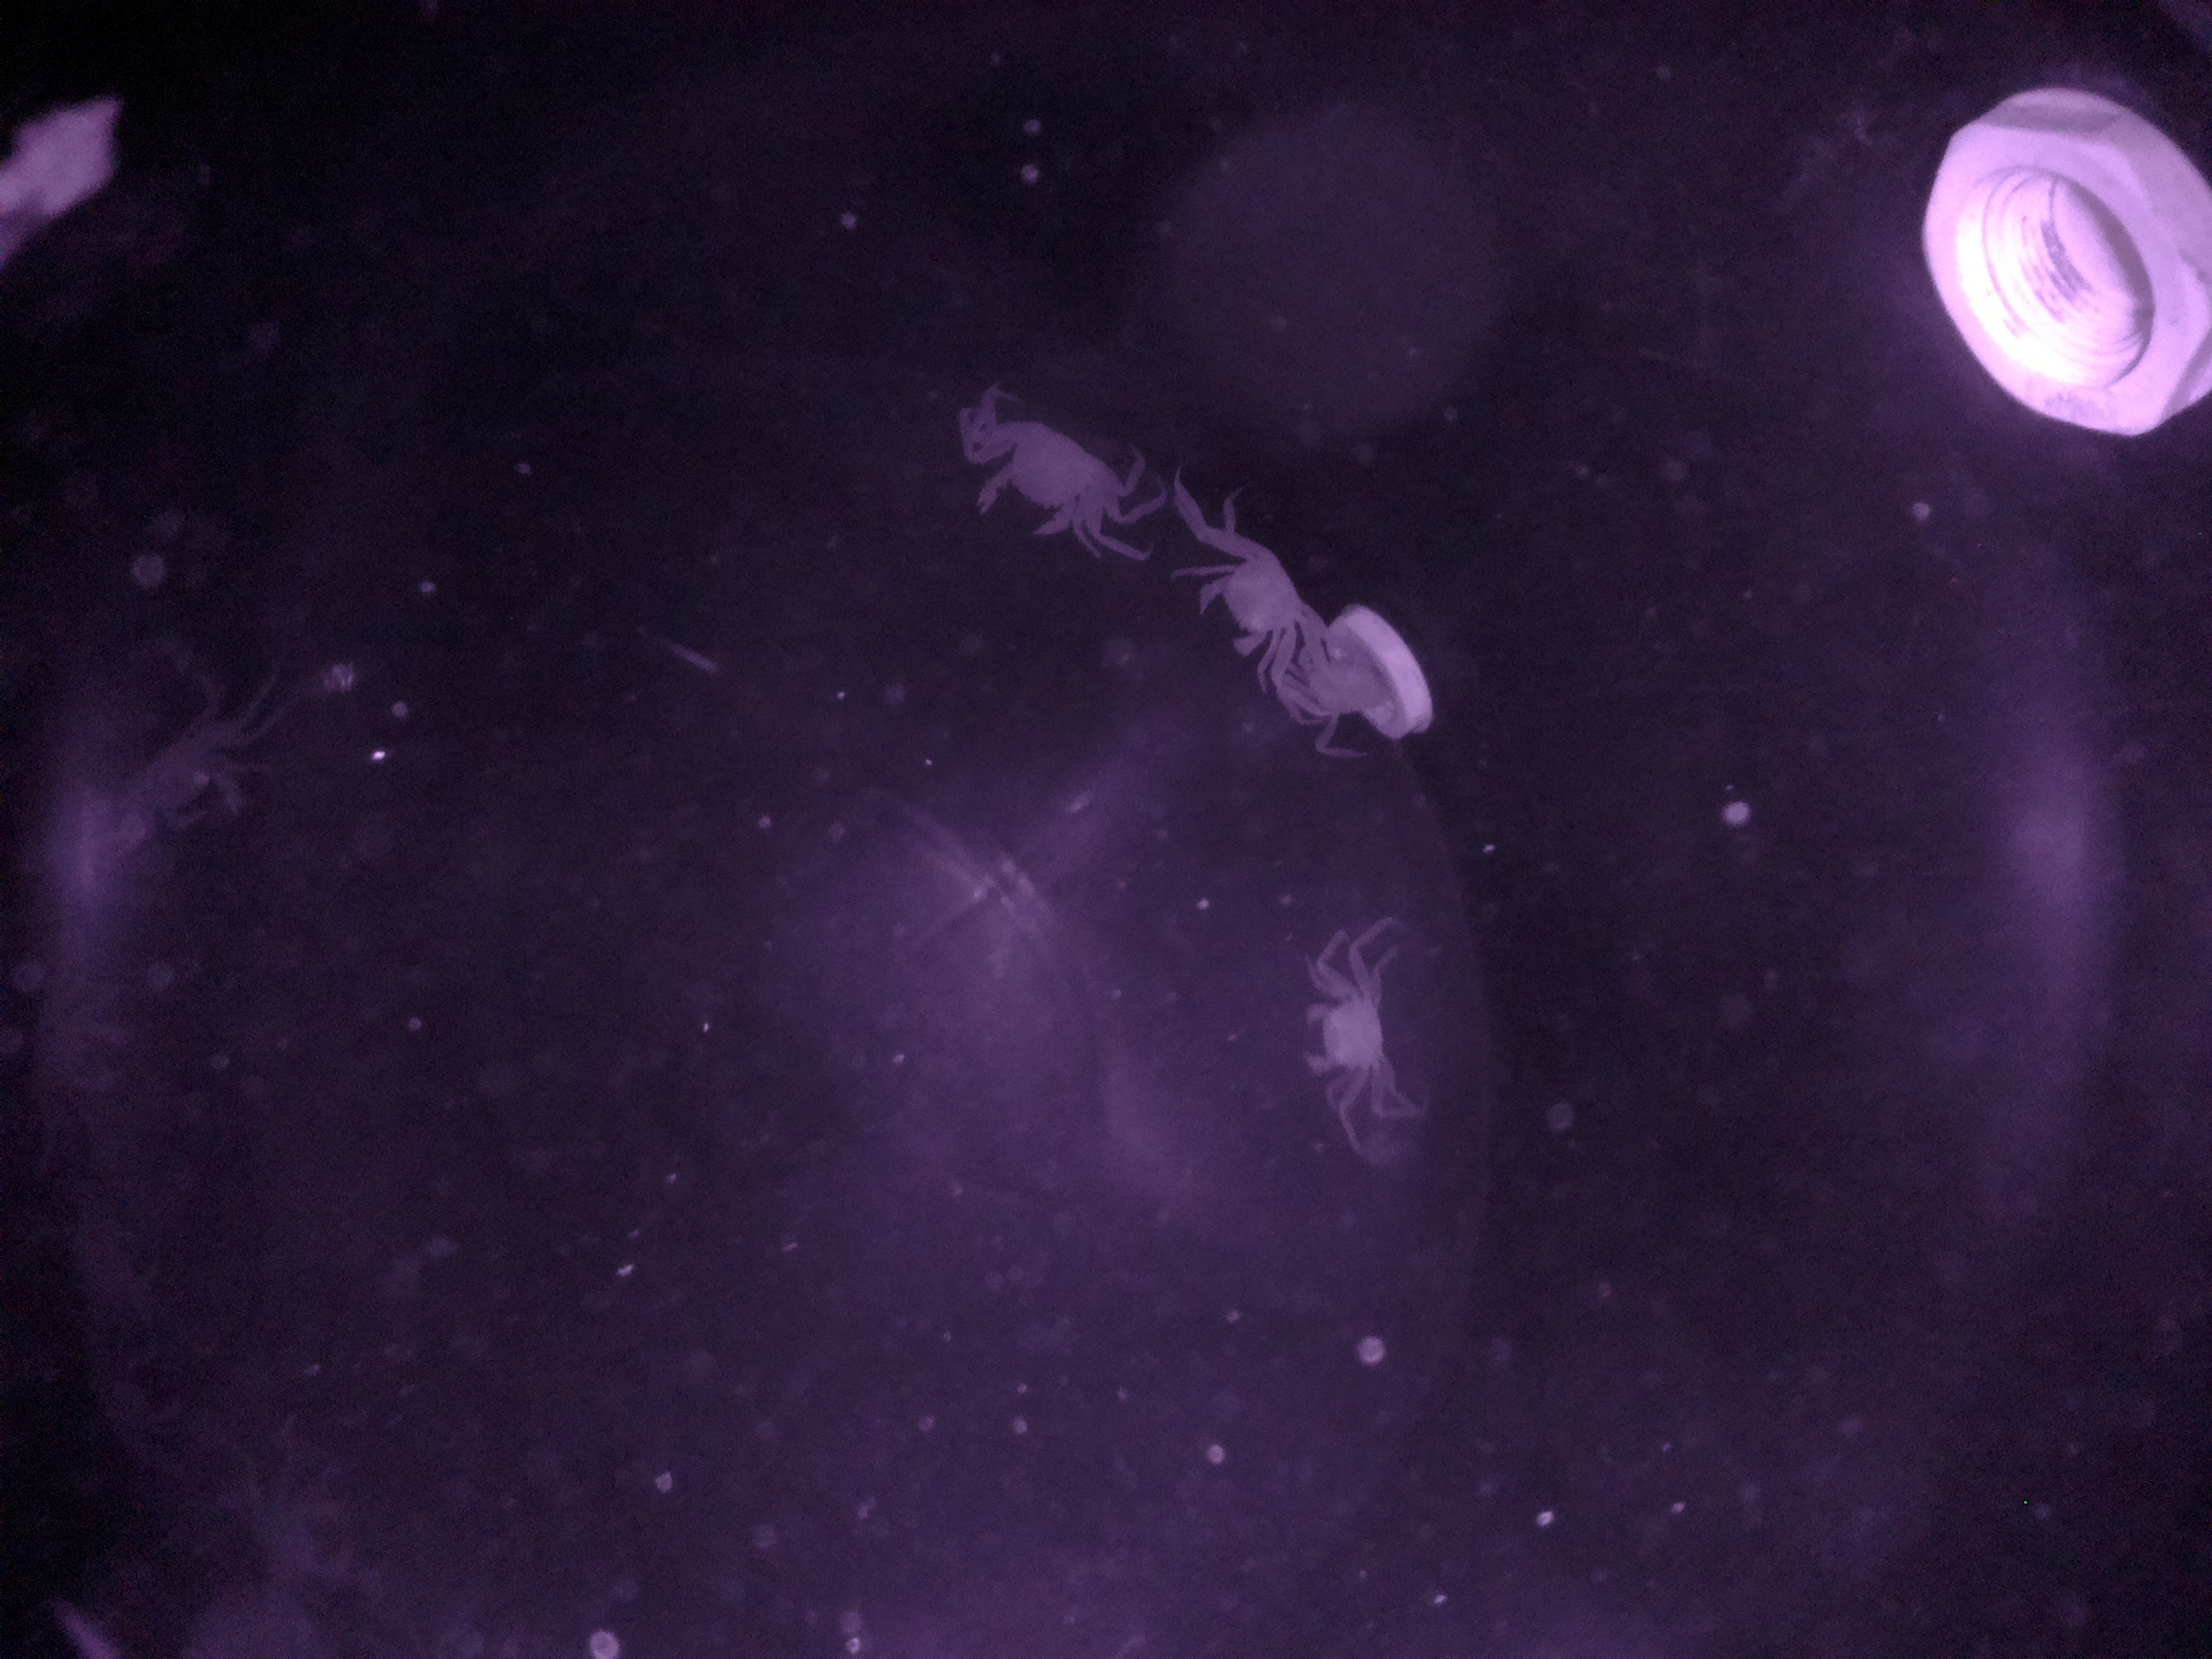Crab: (1155, 497, 1345, 695), (934, 392, 1141, 570), (1263, 929, 1439, 1131)
